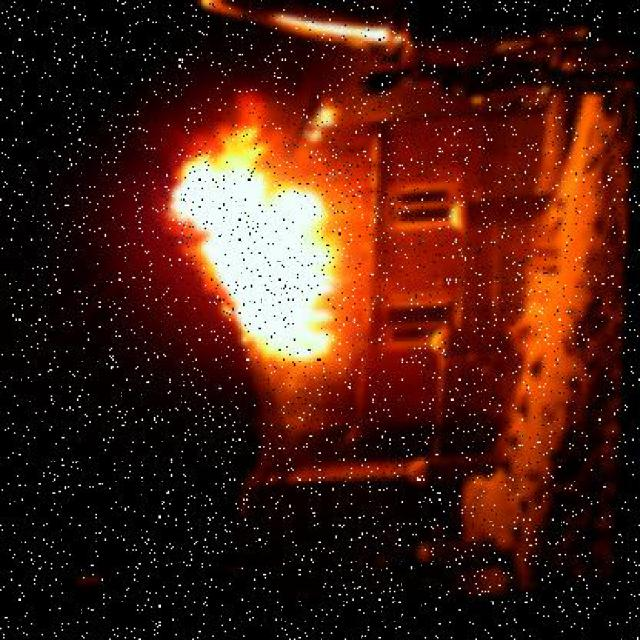fire: (123, 100, 348, 389)
